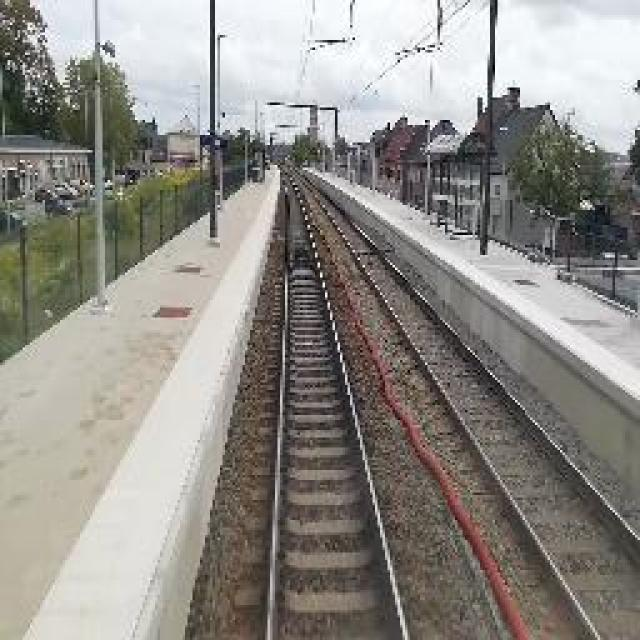rail: (232, 161, 438, 640)
